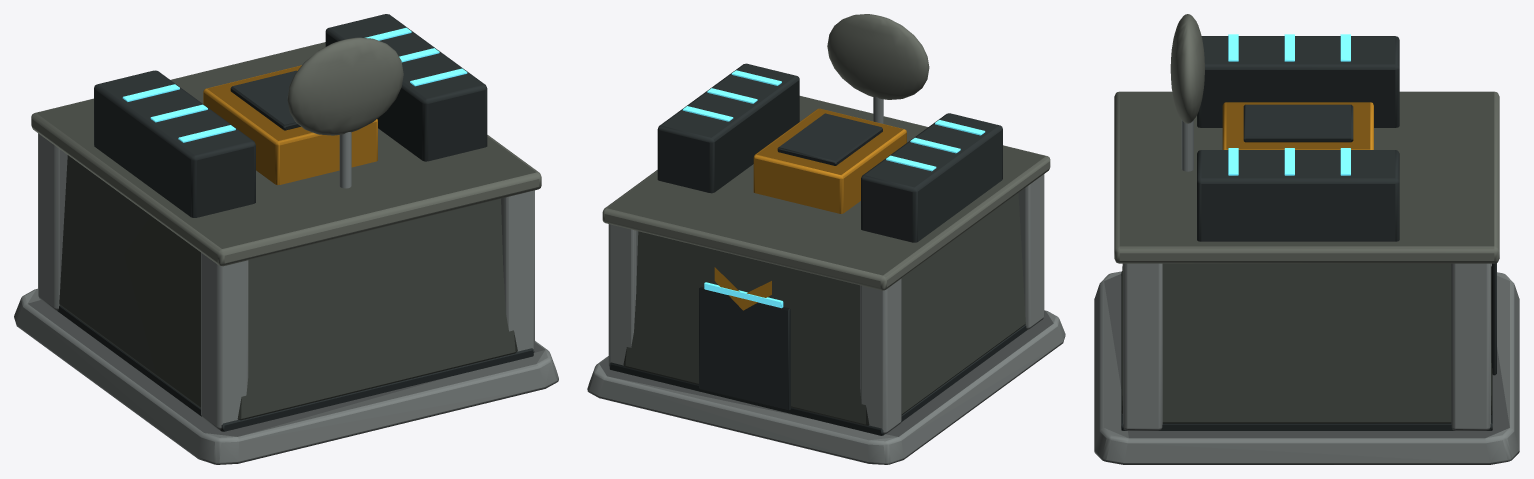
File: CommandLab.glb
3 views of the same model, side by side, from view 1: azimuth 30°, elevation 25°; view 2: azimuth 150°, elevation 25°; view 3: azimuth 270°, elevation 25° (orthographic). The views are drawn at different scales.
Parts seen in each view (by area): view 1: export_CommandLab_Foundation; view 2: export_CommandLab_Foundation; view 3: export_CommandLab_Foundation.
Boxes of the visible parts, left/top/right/bottom form: export_CommandLab_Foundation: left=14, top=14, right=558, bottom=464; export_CommandLab_Foundation: left=587, top=14, right=1065, bottom=464; export_CommandLab_Foundation: left=1094, top=14, right=1519, bottom=464.
Bounding box in the file's own units: 4.83 × 4.55 × 4.93.
